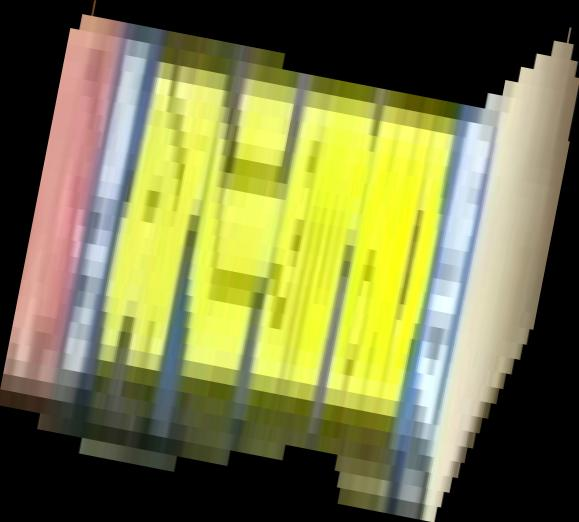flat: (1, 1, 579, 522)
